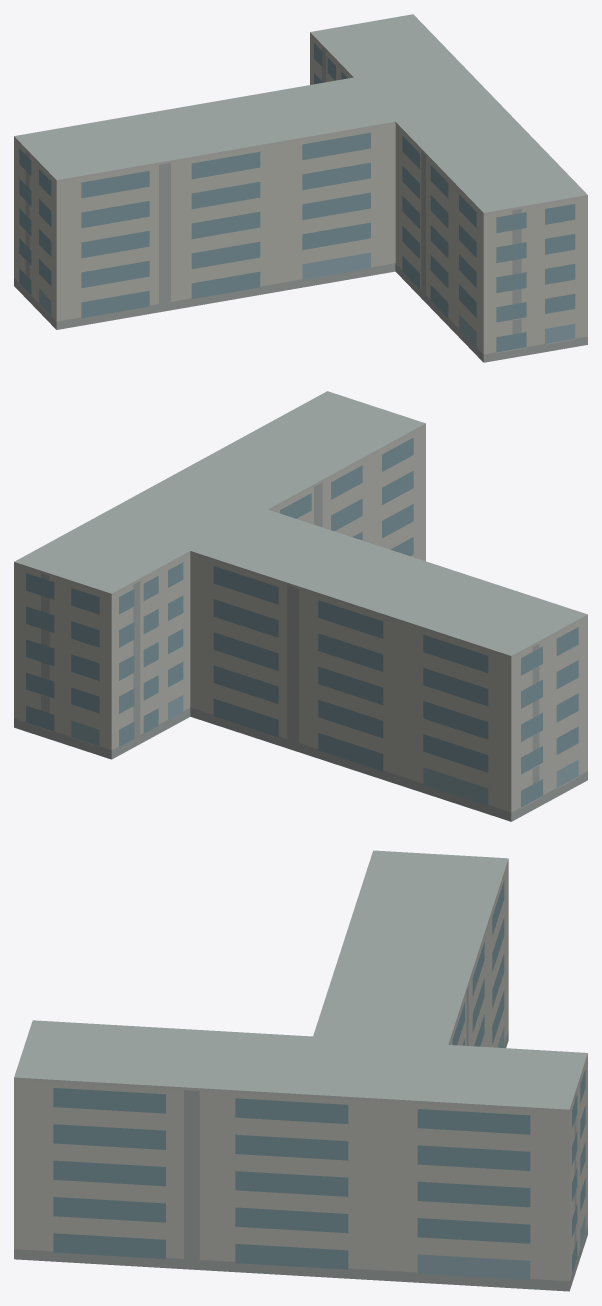
Rendered from residential-4dbaf8ff-1bbc-4119-b352-2c44312d17cb.glb.
3 views of the same model, one above another, from view 1: azimuth 30°, elevation 25°; view 2: azimuth 150°, elevation 25°; view 3: azimuth 270°, elevation 25° (orthographic). The views are drawn at different scales.
Visible parts, largest first — view 1: residential-4dbaf8ff-1bbc-4119-b352-2c44312d17cb.tmp; view 2: residential-4dbaf8ff-1bbc-4119-b352-2c44312d17cb.tmp; view 3: residential-4dbaf8ff-1bbc-4119-b352-2c44312d17cb.tmp.
Part boxes in pixels (box(x1,y1,x2,y2)): residential-4dbaf8ff-1bbc-4119-b352-2c44312d17cb.tmp: box(14, 14, 587, 362); residential-4dbaf8ff-1bbc-4119-b352-2c44312d17cb.tmp: box(14, 391, 587, 821); residential-4dbaf8ff-1bbc-4119-b352-2c44312d17cb.tmp: box(14, 850, 587, 1291).
Bounding box in the file's own units: 46.63 × 15.25 × 43.63.
